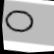no answer: (1, 7, 38, 38)
